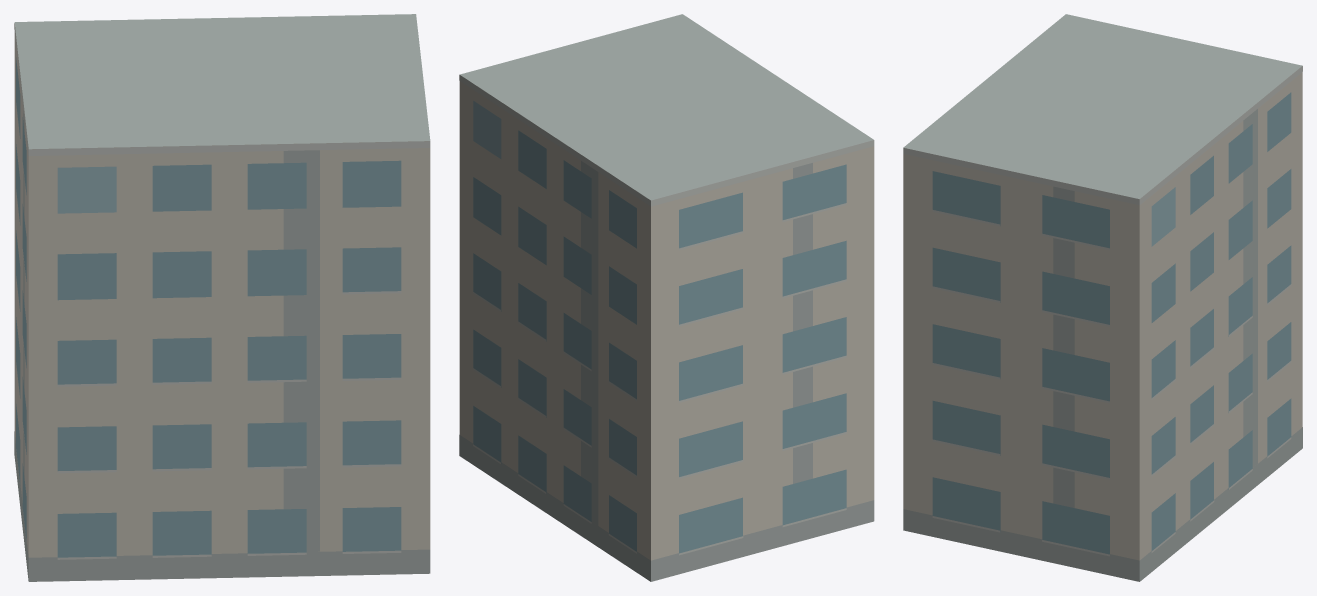
Rendered from residential-6b4d2505-df3a-4825-8651-59b1ff9803df.glb.
3 views of the same model, side by side, from view 1: azimuth 30°, elevation 25°; view 2: azimuth 150°, elevation 25°; view 3: azimuth 270°, elevation 25° (orthographic). The views are drawn at different scales.
Visible parts, largest first — view 1: residential-6b4d2505-df3a-4825-8651-59b1ff9803df.tmp; view 2: residential-6b4d2505-df3a-4825-8651-59b1ff9803df.tmp; view 3: residential-6b4d2505-df3a-4825-8651-59b1ff9803df.tmp.
Boxes of the visible parts, x1=… form: residential-6b4d2505-df3a-4825-8651-59b1ff9803df.tmp: x1=14, y1=14, x2=430, y2=581; residential-6b4d2505-df3a-4825-8651-59b1ff9803df.tmp: x1=459, y1=14, x2=874, y2=581; residential-6b4d2505-df3a-4825-8651-59b1ff9803df.tmp: x1=903, y1=14, x2=1302, y2=581.
Bounding box in the file's own units: 15.83 × 15.25 × 14.44.
